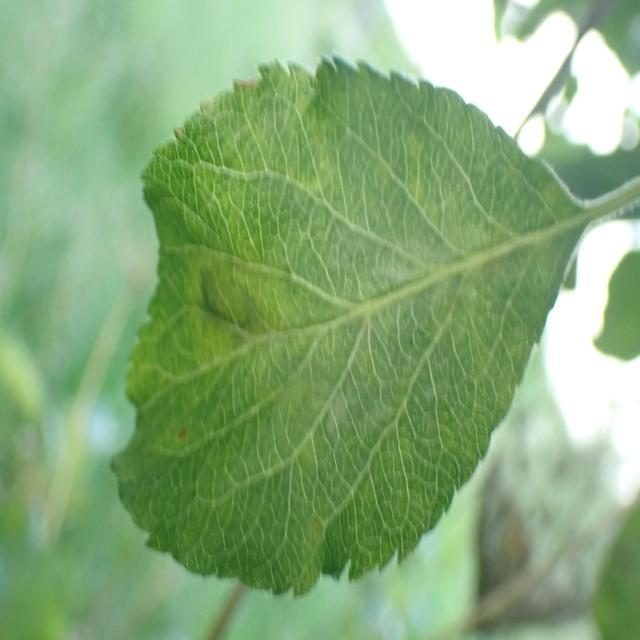scab: (195, 136, 559, 442)
